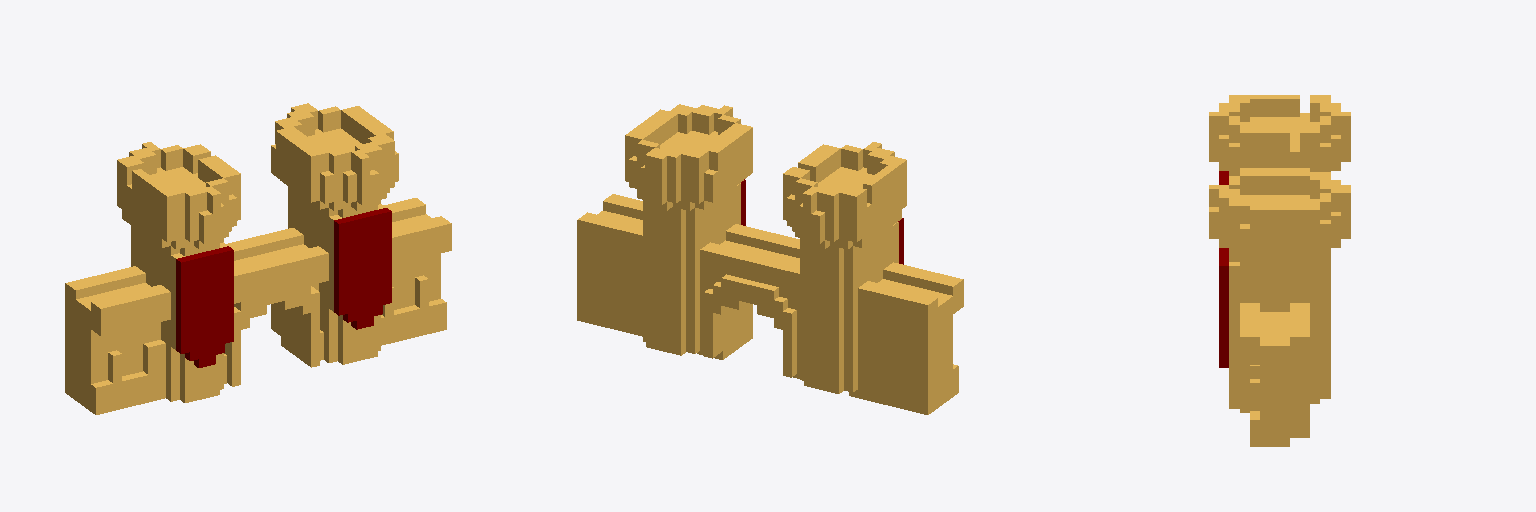
3 renders of one model, left to right at view 1: azimuth 30°, elevation 25°; view 2: azimuth 150°, elevation 25°; view 3: azimuth 270°, elevation 25°, orthographic.
Visible parts, largest first — view 1: object 1; view 2: object 1; view 3: object 1.
Boxes of the visible parts, box(x1,y1,x2,y2) form: object 1: box(65, 103, 451, 414); object 1: box(577, 104, 963, 414); object 1: box(1209, 95, 1350, 446).
Bounding box in the file's own units: 4 × 2.3 × 1.4.
1 materials, 1 textured.